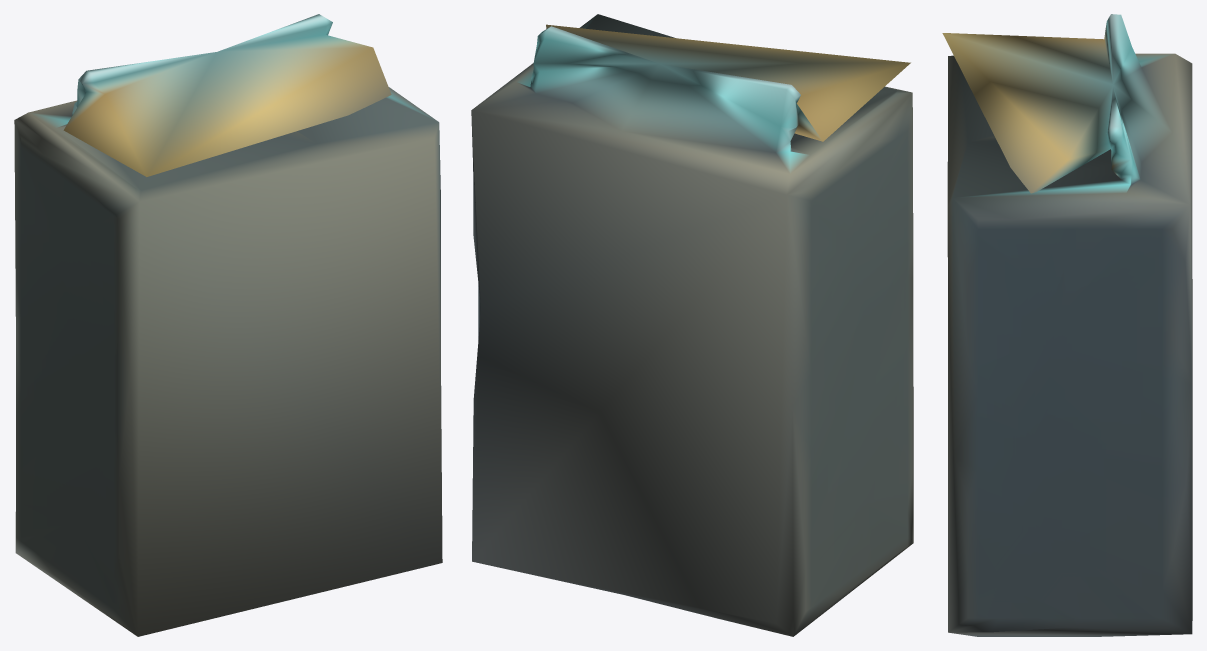
File: env_co_terminal.glb
3 views of the same model, side by side, from view 1: azimuth 30°, elevation 25°; view 2: azimuth 150°, elevation 25°; view 3: azimuth 270°, elevation 25° (orthographic). The views are drawn at different scales.
Parts seen in each view (by area): view 1: geometry_0; view 2: geometry_0; view 3: geometry_0.
Part boxes in pixels (box(x1,y1,x2,y2)): geometry_0: box(14, 14, 442, 636); geometry_0: box(471, 14, 913, 636); geometry_0: box(942, 14, 1192, 636).
Size of the model in its own units: 0.9 by 1.35 by 0.6127.
